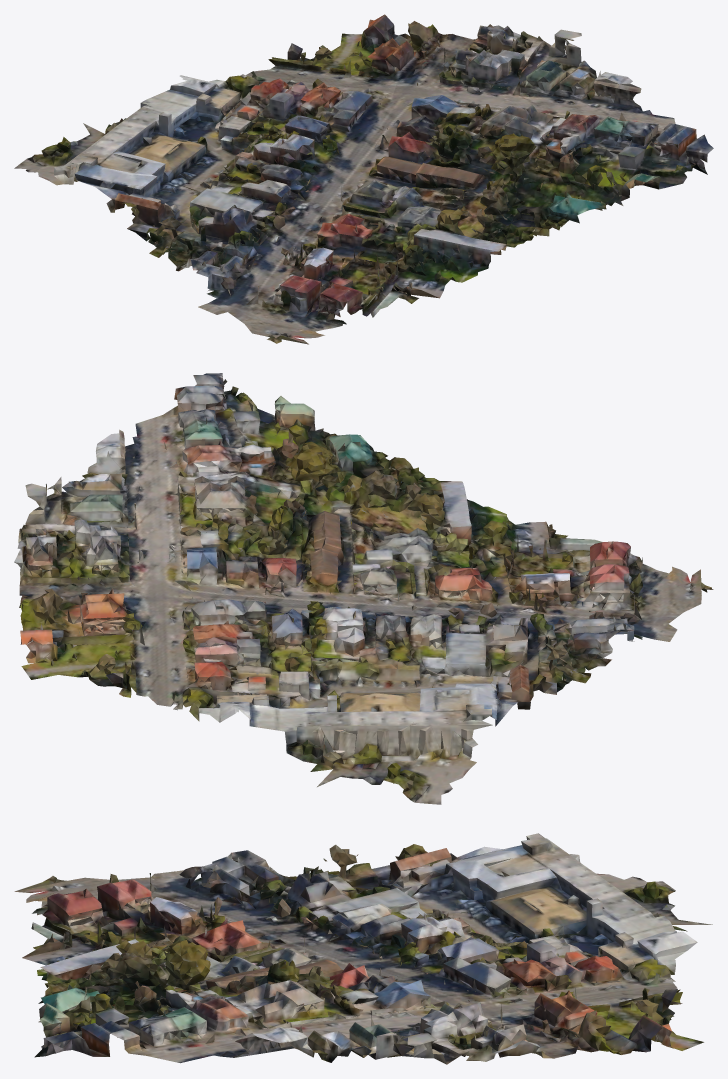
File: Tile_013_006_L17.gltf
The picture shows the model from 3 angles, top to bottom: view 1: azimuth 30°, elevation 25°; view 2: azimuth 150°, elevation 25°; view 3: azimuth 270°, elevation 25°; orthographic projection. The views are drawn at different scales.
Parts seen in each view (by area): view 1: Tile_+013_+006_L17; view 2: Tile_+013_+006_L17; view 3: Tile_+013_+006_L17.
Part boxes in pixels (bbox=[...]): Tile_+013_+006_L17: bbox=[14, 14, 713, 344]; Tile_+013_+006_L17: bbox=[14, 373, 713, 804]; Tile_+013_+006_L17: bbox=[14, 833, 712, 1064].
Size of the model in its own units: 220 by 44.11 by 227.
Materials: 1 (1 with a texture image).
